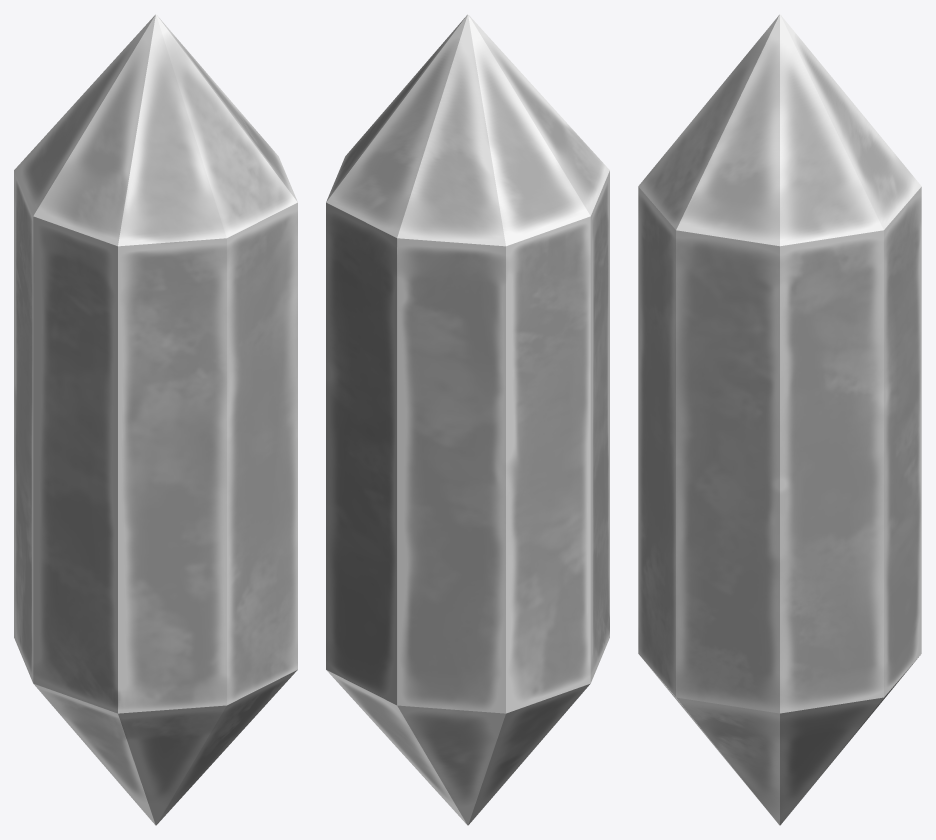
The model's file is crystal_air.glb.
The picture shows the model from 3 angles, left to right: view 1: azimuth 30°, elevation 25°; view 2: azimuth 150°, elevation 25°; view 3: azimuth 270°, elevation 25°; orthographic projection.
Parts seen in each view (by area): view 1: Plane; view 2: Plane; view 3: Plane.
Part boxes in pixels (x1,y1,x2,y2): Plane: [14, 14, 297, 825]; Plane: [326, 14, 609, 825]; Plane: [638, 14, 921, 825].
Bounding box in the file's own units: 0.275 × 0.8689 × 0.275.
1 material, 1 textured.
